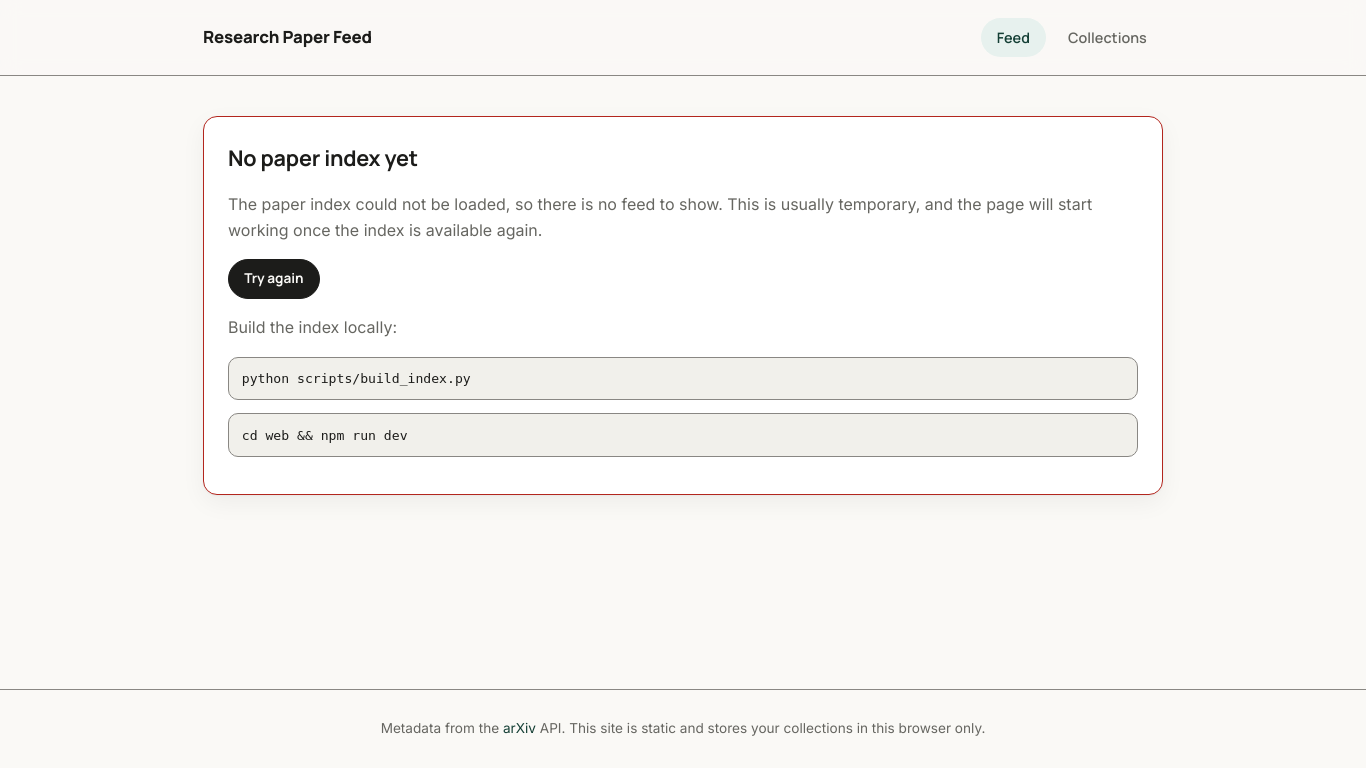
Test: index-unavailable panel retry › clears the error panel, shows the loading status, and refetches the index
This screenshot has width=1366, height=768.
Click the button "Try again" at (274, 279), box [228,259,320,299]
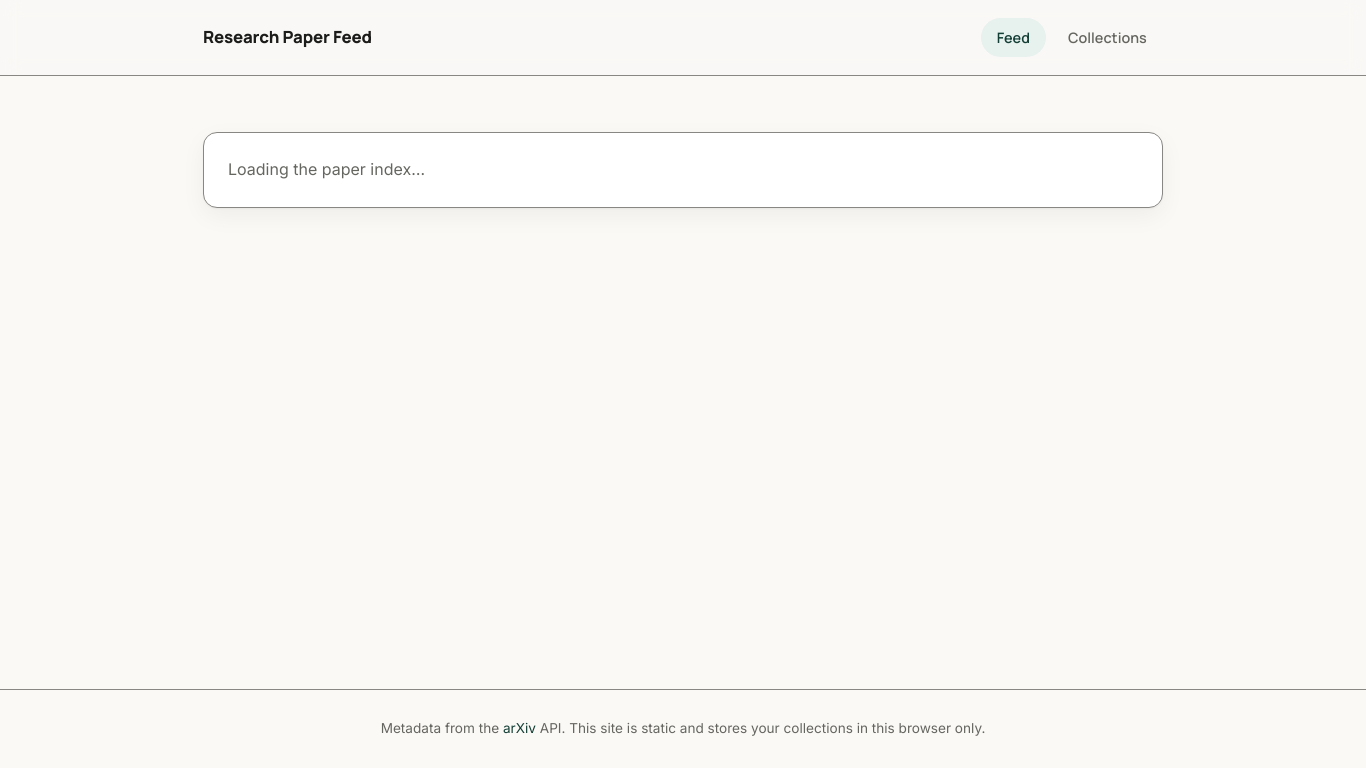
Expected: the message shows "Loading the paper index", [228,159,425,179]
